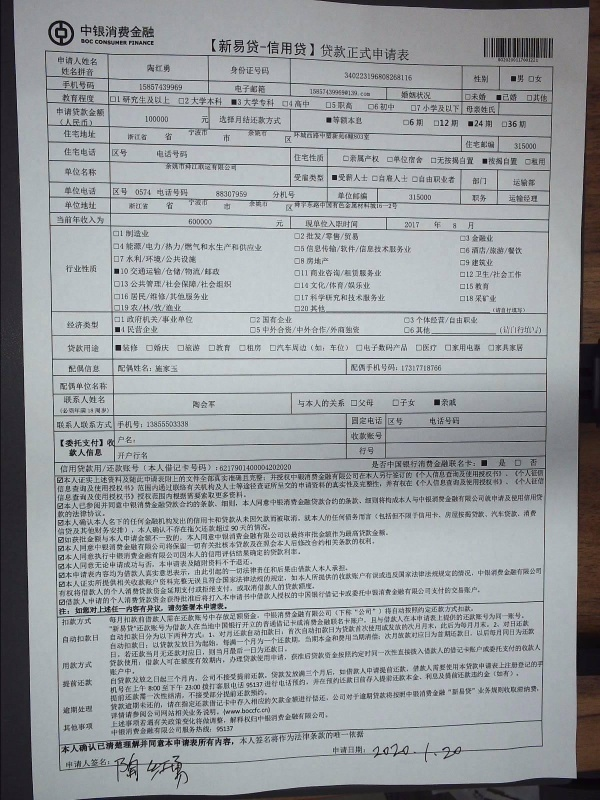text: (129, 753, 144, 788), (145, 753, 160, 788), (161, 753, 176, 788), (177, 753, 192, 788), (114, 753, 128, 788), (209, 37, 224, 66), (225, 37, 240, 66), (241, 37, 256, 66), (257, 37, 272, 66), (273, 37, 288, 66), (289, 37, 304, 66), (305, 37, 320, 66), (321, 37, 336, 66), (337, 37, 352, 66), (353, 37, 368, 66), (369, 37, 384, 66), (385, 37, 400, 66), (113, 684, 128, 712), (129, 684, 144, 712), (145, 684, 160, 712), (161, 684, 176, 712), (177, 684, 192, 712), (193, 684, 208, 712), (209, 684, 224, 712), (225, 684, 240, 712), (241, 684, 256, 712), (257, 684, 272, 712), (273, 684, 288, 712), (289, 684, 304, 712), (305, 684, 320, 712), (321, 684, 336, 712), (337, 684, 352, 712), (353, 684, 368, 712), (369, 684, 384, 712), (385, 684, 400, 712), (401, 684, 416, 712), (417, 684, 432, 712), (433, 684, 448, 712), (449, 684, 464, 712), (465, 684, 480, 712), (481, 684, 496, 712), (497, 684, 512, 712), (513, 684, 528, 712), (529, 643, 545, 669), (353, 730, 369, 756), (113, 660, 128, 687), (129, 660, 144, 687), (145, 660, 160, 687), (161, 660, 176, 687), (177, 660, 192, 687), (193, 660, 208, 687), (209, 660, 224, 687), (225, 660, 240, 687), (241, 660, 256, 687), (257, 660, 272, 687), (273, 660, 288, 687), (289, 660, 304, 687), (305, 660, 320, 687), (321, 660, 336, 687), (337, 660, 352, 687), (353, 660, 368, 687), (369, 660, 384, 687), (385, 660, 400, 687), (401, 660, 416, 687), (417, 660, 432, 687), (433, 660, 448, 687), (449, 660, 464, 687), (465, 660, 480, 687), (481, 660, 496, 687), (497, 660, 512, 687), (513, 660, 528, 687), (529, 660, 544, 687), (529, 684, 543, 712), (113, 643, 128, 669), (129, 643, 144, 669), (145, 643, 160, 669), (161, 643, 176, 669), (177, 643, 192, 669), (193, 643, 208, 669), (209, 643, 224, 669), (225, 643, 240, 669), (241, 643, 256, 669), (257, 643, 272, 669), (273, 643, 288, 669), (289, 643, 304, 669), (305, 643, 320, 669), (321, 643, 336, 669), (337, 643, 352, 669), (353, 643, 368, 669), (369, 643, 384, 669), (385, 643, 400, 669), (401, 643, 416, 669), (417, 643, 432, 669), (433, 643, 448, 669), (449, 643, 464, 669), (465, 643, 480, 669), (481, 643, 496, 669), (497, 643, 512, 669), (513, 643, 528, 669), (113, 669, 128, 695), (129, 669, 144, 695), (145, 669, 160, 695), (161, 669, 176, 695), (177, 669, 192, 695), (193, 669, 208, 695), (209, 669, 224, 695), (225, 669, 240, 695), (241, 669, 256, 695), (257, 669, 272, 695), (273, 669, 288, 695), (289, 669, 304, 695), (305, 669, 320, 695), (321, 669, 336, 695), (337, 669, 352, 695), (353, 669, 368, 695), (369, 669, 384, 695), (385, 669, 400, 695), (401, 669, 416, 695), (417, 669, 432, 695), (433, 669, 448, 695), (449, 669, 464, 695), (465, 669, 480, 695), (481, 669, 496, 695), (497, 669, 512, 695), (65, 730, 80, 756), (81, 730, 96, 756), (97, 730, 112, 756), (113, 730, 128, 756), (129, 730, 144, 756), (145, 730, 160, 756), (161, 730, 176, 756), (177, 730, 192, 756), (193, 730, 208, 756), (209, 730, 224, 756), (225, 730, 240, 756), (241, 730, 256, 756), (257, 730, 272, 756), (273, 730, 288, 756), (289, 730, 304, 756), (305, 730, 320, 756), (321, 730, 336, 756), (337, 730, 352, 756), (401, 37, 414, 66), (385, 741, 400, 766), (401, 741, 416, 766), (417, 741, 432, 766), (433, 741, 448, 766), (449, 741, 464, 766), (113, 619, 128, 643), (129, 619, 144, 643), (145, 619, 160, 643), (161, 619, 176, 643), (177, 619, 192, 643), (193, 619, 208, 643), (209, 619, 224, 643), (225, 619, 240, 643), (241, 619, 256, 643), (257, 619, 272, 643), (273, 619, 288, 643), (289, 619, 304, 643), (305, 619, 320, 643), (321, 619, 336, 643), (337, 619, 352, 643), (353, 619, 368, 643), (369, 619, 384, 643), (385, 619, 400, 643), (401, 619, 416, 643), (417, 619, 432, 643), (433, 619, 448, 643), (449, 619, 464, 643), (465, 619, 480, 643), (481, 619, 496, 643), (497, 619, 512, 643), (513, 619, 528, 643), (113, 627, 128, 651), (129, 627, 144, 651), (145, 627, 160, 651), (161, 627, 176, 651), (177, 627, 192, 651), (193, 627, 208, 651), (209, 627, 224, 651), (225, 627, 240, 651), (241, 627, 256, 651), (257, 627, 272, 651), (273, 627, 288, 651), (289, 627, 304, 651), (305, 627, 320, 651), (321, 627, 336, 651), (337, 627, 352, 651), (353, 627, 368, 651), (369, 627, 384, 651), (385, 627, 400, 651), (401, 627, 416, 651), (417, 627, 432, 651), (433, 627, 448, 651), (449, 627, 464, 651), (465, 627, 480, 651), (481, 627, 496, 651), (497, 627, 512, 651), (513, 627, 528, 651), (113, 94, 128, 116), (129, 94, 144, 116), (145, 94, 160, 116), (161, 94, 176, 116), (177, 94, 192, 116), (193, 94, 208, 116), (209, 94, 224, 116), (225, 94, 240, 116), (241, 94, 256, 116), (257, 94, 272, 116), (273, 94, 288, 116), (289, 94, 304, 116), (305, 94, 320, 116), (321, 94, 336, 116), (337, 94, 352, 116), (353, 94, 368, 116), (369, 94, 384, 116), (385, 94, 400, 116), (401, 94, 416, 116), (417, 94, 432, 116), (433, 94, 448, 116), (449, 94, 464, 116), (465, 94, 480, 116), (481, 94, 496, 116), (65, 567, 80, 589), (81, 567, 96, 589), (97, 567, 112, 589), (113, 567, 128, 589), (129, 567, 144, 589), (145, 567, 160, 589), (161, 567, 176, 589), (177, 567, 192, 589), (193, 567, 208, 589), (209, 567, 224, 589), (225, 567, 240, 589), (241, 567, 256, 589), (257, 567, 272, 589), (273, 567, 288, 589), (289, 567, 304, 589), (305, 567, 320, 589), (321, 567, 336, 589), (337, 567, 352, 589), (353, 567, 368, 589), (369, 567, 384, 589), (385, 567, 400, 589), (401, 567, 416, 589), (417, 567, 432, 589), (433, 567, 448, 589), (449, 567, 464, 589), (465, 567, 480, 589), (481, 567, 496, 589), (497, 567, 512, 589), (513, 567, 528, 589), (529, 567, 544, 589), (113, 603, 128, 625), (129, 603, 144, 625), (145, 603, 160, 625), (161, 603, 176, 625), (177, 603, 192, 625), (193, 603, 208, 625), (209, 603, 224, 625), (225, 603, 240, 625), (241, 603, 256, 625), (257, 603, 272, 625), (273, 603, 288, 625), (289, 603, 304, 625), (305, 603, 320, 625), (321, 603, 336, 625), (337, 603, 352, 625), (353, 603, 368, 625), (369, 603, 384, 625), (385, 603, 400, 625), (401, 603, 416, 625), (417, 603, 432, 625), (433, 603, 448, 625), (449, 603, 464, 625), (113, 612, 128, 634), (129, 612, 144, 634), (145, 612, 160, 634), (161, 612, 176, 634), (177, 612, 192, 634), (193, 612, 208, 634), (209, 612, 224, 634), (225, 612, 240, 634), (241, 612, 256, 634), (257, 612, 272, 634), (273, 612, 288, 634), (289, 612, 304, 634), (305, 612, 320, 634), (321, 612, 336, 634), (337, 612, 352, 634), (353, 612, 368, 634), (369, 612, 384, 634), (385, 612, 400, 634), (401, 612, 416, 634), (417, 612, 432, 634), (433, 612, 448, 634), (449, 612, 464, 634), (465, 612, 480, 634), (481, 612, 496, 634), (497, 612, 512, 634), (513, 612, 528, 634), (65, 586, 80, 607), (81, 586, 96, 607), (97, 586, 112, 607), (113, 586, 128, 607), (129, 586, 144, 607), (145, 586, 160, 607), (161, 586, 176, 607), (177, 586, 192, 607), (193, 586, 208, 607), (209, 586, 224, 607), (225, 586, 240, 607), (241, 586, 256, 607), (257, 586, 272, 607), (273, 586, 288, 607), (289, 586, 304, 607), (305, 586, 320, 607), (321, 586, 336, 607), (337, 586, 352, 607), (353, 586, 368, 607), (369, 586, 384, 607), (385, 586, 400, 607), (401, 586, 416, 607), (417, 586, 432, 607), (433, 586, 448, 607), (449, 586, 464, 607), (465, 586, 480, 607), (513, 669, 525, 695), (372, 741, 384, 766), (337, 563, 353, 581), (465, 603, 478, 625), (65, 509, 80, 528), (81, 509, 96, 528), (97, 509, 112, 528), (113, 509, 128, 528), (129, 509, 144, 528), (145, 509, 160, 528), (161, 509, 176, 528), (177, 509, 192, 528), (193, 509, 208, 528), (209, 509, 224, 528), (225, 509, 240, 528), (241, 509, 256, 528), (257, 509, 272, 528), (273, 509, 288, 528), (289, 509, 304, 528), (305, 509, 320, 528), (321, 509, 336, 528), (337, 509, 352, 528), (353, 509, 368, 528), (369, 509, 384, 528), (385, 509, 400, 528), (401, 509, 416, 528), (417, 509, 432, 528), (433, 509, 448, 528), (449, 509, 464, 528), (465, 509, 480, 528), (481, 509, 496, 528), (497, 509, 512, 528), (513, 509, 528, 528), (81, 22, 96, 40), (97, 22, 112, 40), (113, 22, 128, 40), (129, 22, 144, 40), (65, 493, 80, 511), (81, 493, 96, 511), (97, 493, 112, 511), (113, 493, 128, 511), (129, 493, 144, 511), (145, 493, 160, 511), (161, 493, 176, 511), (177, 493, 192, 511), (193, 493, 208, 511), (209, 493, 224, 511), (225, 493, 240, 511), (241, 493, 256, 511), (257, 493, 272, 511), (273, 493, 288, 511), (289, 493, 304, 511), (305, 493, 320, 511), (321, 493, 336, 511), (337, 493, 352, 511), (353, 493, 368, 511), (369, 493, 384, 511), (385, 493, 400, 511), (401, 493, 416, 511), (417, 493, 432, 511), (433, 493, 448, 511), (449, 493, 464, 511), (465, 493, 480, 511), (481, 493, 496, 511), (497, 493, 512, 511), (513, 493, 528, 511), (529, 493, 544, 511), (65, 563, 80, 581), (81, 563, 96, 581), (97, 563, 112, 581), (113, 563, 128, 581), (129, 563, 144, 581), (145, 563, 160, 581), (161, 563, 176, 581), (177, 563, 192, 581), (193, 563, 208, 581), (209, 563, 224, 581), (225, 563, 240, 581), (241, 563, 256, 581), (257, 563, 272, 581), (273, 563, 288, 581), (289, 563, 304, 581), (305, 563, 320, 581), (321, 563, 336, 581), (113, 711, 128, 729), (129, 711, 144, 729), (145, 711, 160, 729), (161, 711, 176, 729), (177, 711, 192, 729), (193, 711, 208, 729), (209, 711, 224, 729), (225, 711, 240, 729), (241, 711, 256, 729), (257, 711, 272, 729), (273, 711, 288, 729), (289, 711, 304, 729), (305, 711, 320, 729), (289, 547, 305, 563), (65, 477, 80, 494), (81, 477, 96, 494), (97, 477, 112, 494), (113, 477, 128, 494), (129, 477, 144, 494), (145, 477, 160, 494), (161, 477, 176, 494), (177, 477, 192, 494), (193, 477, 208, 494), (209, 477, 224, 494), (225, 477, 240, 494), (241, 477, 256, 494), (257, 477, 272, 494), (273, 477, 288, 494), (289, 477, 304, 494), (305, 477, 320, 494), (321, 477, 336, 494), (337, 477, 352, 494), (353, 477, 368, 494), (369, 477, 384, 494), (385, 477, 400, 494), (401, 477, 416, 494), (417, 477, 432, 494), (433, 477, 448, 494), (449, 477, 464, 494), (465, 477, 480, 494), (481, 477, 496, 494), (497, 477, 512, 494), (513, 477, 528, 494), (529, 477, 544, 494), (65, 528, 80, 545), (81, 528, 96, 545), (97, 528, 112, 545), (113, 528, 128, 545), (129, 528, 144, 545), (145, 528, 160, 545), (161, 528, 176, 545), (177, 528, 192, 545), (193, 528, 208, 545), (209, 528, 224, 545), (225, 528, 240, 545), (241, 528, 256, 545), (257, 528, 272, 545), (273, 528, 288, 545), (289, 528, 304, 545), (305, 528, 320, 545), (321, 528, 336, 545), (337, 528, 352, 545), (353, 528, 368, 545), (369, 528, 384, 545), (65, 537, 80, 554), (81, 537, 96, 554), (97, 537, 112, 554), (113, 537, 128, 554), (129, 537, 144, 554), (145, 537, 160, 554), (161, 537, 176, 554), (177, 537, 192, 554), (193, 537, 208, 554), (209, 537, 224, 554), (225, 537, 240, 554), (241, 537, 256, 554), (257, 537, 272, 554), (273, 537, 288, 554), (289, 537, 304, 554), (305, 537, 320, 554), (321, 537, 336, 554), (337, 537, 352, 554), (353, 537, 368, 554), (65, 582, 80, 599), (81, 582, 96, 599), (97, 582, 112, 599), (113, 582, 128, 599), (129, 582, 144, 599), (145, 582, 160, 599), (161, 582, 176, 599), (177, 582, 192, 599), (193, 582, 208, 599), (209, 582, 224, 599), (225, 582, 240, 599), (241, 582, 256, 599), (257, 582, 272, 599), (273, 582, 288, 599), (289, 582, 304, 599), (305, 582, 320, 599), (65, 602, 80, 619), (81, 602, 96, 619), (97, 602, 112, 619), (113, 602, 128, 619), (129, 602, 144, 619), (145, 602, 160, 619), (161, 602, 176, 619), (177, 602, 192, 619), (193, 602, 208, 619), (209, 602, 224, 619), (145, 22, 159, 40), (65, 469, 80, 485), (81, 469, 96, 485), (97, 469, 112, 485), (113, 469, 128, 485), (129, 469, 144, 485), (145, 469, 160, 485), (161, 469, 176, 485), (177, 469, 192, 485), (193, 469, 208, 485), (209, 469, 224, 485), (225, 469, 240, 485), (241, 469, 256, 485), (257, 469, 272, 485), (273, 469, 288, 485), (289, 469, 304, 485), (305, 469, 320, 485), (321, 469, 336, 485), (337, 469, 352, 485), (353, 469, 368, 485), (369, 469, 384, 485), (385, 469, 400, 485), (401, 469, 416, 485), (417, 469, 432, 485), (433, 469, 448, 485), (449, 469, 464, 485), (465, 469, 480, 485), (481, 469, 496, 485), (497, 469, 512, 485), (513, 469, 528, 485), (529, 469, 544, 485), (65, 547, 80, 563), (81, 547, 96, 563), (97, 547, 112, 563), (113, 547, 128, 563), (129, 547, 144, 563), (145, 547, 160, 563), (161, 547, 176, 563), (177, 547, 192, 563), (193, 547, 208, 563), (209, 547, 224, 563), (225, 547, 240, 563), (241, 547, 256, 563), (257, 547, 272, 563), (273, 547, 288, 563), (529, 627, 539, 651), (113, 644, 128, 660), (129, 644, 144, 660), (145, 644, 160, 660), (161, 644, 176, 660), (177, 644, 192, 660), (193, 644, 208, 660), (209, 644, 224, 660), (225, 644, 240, 660), (241, 644, 256, 660), (257, 644, 272, 660), (273, 644, 288, 660), (113, 705, 128, 721), (129, 705, 144, 721), (145, 705, 160, 721), (161, 705, 176, 721), (177, 705, 192, 721), (193, 705, 208, 721), (209, 705, 224, 721), (225, 705, 240, 721), (241, 705, 256, 721), (257, 705, 272, 721), (65, 756, 80, 772), (81, 756, 96, 772), (97, 756, 112, 772), (417, 116, 432, 131), (433, 116, 448, 131), (449, 116, 464, 131), (465, 116, 480, 131), (481, 116, 496, 131), (497, 116, 512, 131), (513, 116, 528, 131), (353, 153, 368, 168), (369, 153, 384, 168), (385, 153, 400, 168), (401, 153, 416, 168), (417, 153, 432, 168), (433, 153, 448, 168), (449, 153, 464, 168), (465, 153, 480, 168), (481, 153, 496, 168), (497, 153, 512, 168), (513, 153, 528, 168), (529, 153, 544, 168), (337, 172, 352, 187), (353, 172, 368, 187), (369, 172, 384, 187), (385, 172, 400, 187), (401, 172, 416, 187), (417, 172, 432, 187), (433, 172, 448, 187), (65, 557, 80, 572), (81, 557, 96, 572), (97, 557, 112, 572), (113, 557, 128, 572), (129, 557, 144, 572), (145, 557, 160, 572), (161, 557, 176, 572), (177, 557, 192, 572), (193, 557, 208, 572), (209, 557, 224, 572), (225, 557, 240, 572), (241, 557, 256, 572), (65, 703, 80, 718), (81, 703, 96, 718), (65, 721, 80, 736), (81, 721, 96, 736), (113, 688, 128, 703), (129, 688, 144, 703), (145, 688, 160, 703), (161, 688, 176, 703), (177, 688, 192, 703), (193, 688, 208, 703), (209, 688, 224, 703), (225, 688, 240, 703), (241, 688, 256, 703), (369, 430, 385, 444), (321, 711, 333, 729), (65, 65, 80, 79), (81, 65, 96, 79), (402, 116, 416, 131), (113, 241, 128, 255), (129, 241, 144, 255), (145, 241, 160, 255), (161, 241, 176, 255), (177, 241, 192, 255), (193, 241, 208, 255), (209, 241, 224, 255), (225, 241, 240, 255), (241, 241, 256, 255), (113, 278, 128, 292), (129, 278, 144, 292), (145, 278, 160, 292), (161, 278, 176, 292), (177, 278, 192, 292), (193, 278, 208, 292), (209, 278, 224, 292), (465, 244, 480, 258), (481, 244, 496, 258), (497, 244, 512, 258), (353, 430, 368, 444), (65, 523, 80, 537), (81, 523, 96, 537), (97, 523, 112, 537), (113, 523, 128, 537), (129, 523, 144, 537), (145, 523, 160, 537), (161, 523, 176, 537), (177, 523, 192, 537), (193, 523, 208, 537), (209, 523, 224, 537), (225, 523, 240, 537), (241, 523, 256, 537), (257, 523, 272, 537), (65, 632, 80, 646), (81, 632, 96, 646), (65, 676, 80, 690), (81, 676, 96, 690), (257, 688, 271, 703), (113, 724, 128, 738), (129, 724, 144, 738), (145, 724, 160, 738), (161, 724, 176, 738), (177, 724, 192, 738), (193, 724, 208, 738), (209, 724, 224, 738), (513, 244, 527, 258), (225, 724, 239, 738), (65, 56, 80, 69), (81, 56, 96, 69), (241, 83, 256, 96), (225, 113, 240, 126), (241, 113, 256, 126), (257, 113, 272, 126), (65, 128, 80, 141), (81, 128, 96, 141), (305, 152, 320, 165), (305, 172, 320, 185), (65, 185, 80, 198), (81, 185, 96, 198), (113, 186, 128, 199), (129, 186, 144, 199), (145, 186, 160, 199), (161, 186, 176, 199), (113, 253, 128, 266), (129, 253, 144, 266), (145, 253, 160, 266), (161, 253, 176, 266), (177, 253, 192, 266), (113, 265, 128, 278), (129, 265, 144, 278), (145, 265, 160, 278), (161, 265, 176, 278), (177, 265, 192, 278), (193, 265, 208, 278), (209, 265, 224, 278), (305, 267, 320, 280), (321, 267, 336, 280), (337, 267, 352, 280), (353, 267, 368, 280), (369, 267, 384, 280), (305, 280, 320, 293), (321, 280, 336, 293), (337, 280, 352, 293), (353, 280, 368, 293), (129, 324, 144, 337), (145, 324, 160, 337), (353, 415, 368, 428), (369, 415, 384, 428), (385, 415, 400, 428), (65, 437, 80, 450), (81, 437, 96, 450), (97, 437, 112, 450), (65, 462, 80, 475), (81, 462, 96, 475), (97, 462, 112, 475), (113, 462, 128, 475), (129, 462, 144, 475), (145, 462, 160, 475), (161, 462, 176, 475), (177, 462, 192, 475), (193, 462, 208, 475), (209, 462, 224, 475), (225, 462, 240, 475), (241, 462, 256, 475), (257, 462, 272, 475), (273, 462, 288, 475), (385, 458, 400, 471), (401, 458, 416, 471), (417, 458, 432, 471), (433, 458, 448, 471), (449, 458, 464, 471), (465, 458, 480, 471), (481, 458, 496, 471), (497, 458, 512, 471), (513, 458, 528, 471), (529, 509, 539, 528), (146, 62, 160, 75), (257, 83, 271, 96), (177, 186, 191, 199), (114, 324, 128, 337), (370, 458, 384, 471), (241, 64, 256, 76), (257, 64, 272, 76), (353, 71, 368, 83), (369, 71, 384, 83), (385, 71, 400, 83), (321, 87, 336, 99), (337, 87, 352, 99), (353, 87, 368, 99), (465, 92, 480, 104), (481, 92, 496, 104), (497, 92, 512, 104), (513, 92, 528, 104), (529, 92, 544, 104), (65, 106, 80, 118), (81, 106, 96, 118), (337, 114, 352, 126), (113, 147, 128, 159), (161, 149, 176, 161), (177, 149, 192, 161), (65, 167, 80, 179), (81, 167, 96, 179), (225, 189, 240, 201), (273, 188, 288, 200), (337, 190, 352, 202), (353, 190, 368, 202), (65, 200, 80, 212), (81, 200, 96, 212), (129, 200, 144, 212), (65, 263, 80, 275), (81, 263, 96, 275), (113, 291, 128, 303), (129, 291, 144, 303), (145, 291, 160, 303), (161, 291, 176, 303), (177, 291, 192, 303), (193, 291, 208, 303), (305, 219, 320, 231), (321, 219, 336, 231), (337, 219, 352, 231), (305, 231, 320, 243), (321, 231, 336, 243), (337, 231, 352, 243), (305, 244, 320, 256), (321, 244, 336, 256), (337, 244, 352, 256), (353, 244, 368, 256), (369, 244, 384, 256), (385, 244, 400, 256), (305, 256, 320, 268), (465, 257, 480, 269), (481, 257, 496, 269), (465, 269, 480, 281), (481, 269, 496, 281), (497, 269, 512, 281), (465, 281, 480, 293), (465, 294, 480, 306), (481, 294, 496, 306), (65, 319, 80, 331), (81, 319, 96, 331), (417, 325, 432, 337), (513, 325, 528, 337), (529, 325, 544, 337), (129, 363, 144, 375), (145, 363, 160, 375), (161, 363, 176, 375), (353, 362, 368, 374), (369, 362, 384, 374), (385, 362, 400, 374), (401, 362, 416, 374), (417, 362, 432, 374), (65, 381, 80, 393), (81, 381, 96, 393), (65, 394, 80, 406), (81, 394, 96, 406), (65, 405, 80, 417), (81, 405, 96, 417), (97, 405, 112, 417), (193, 400, 208, 412), (305, 397, 320, 409), (321, 397, 336, 409), (337, 397, 352, 409), (353, 397, 368, 409), (369, 397, 384, 409), (385, 397, 400, 409), (401, 397, 416, 409), (417, 397, 432, 409), (433, 397, 448, 409), (81, 447, 96, 459), (129, 450, 144, 462), (65, 491, 80, 503), (81, 491, 96, 503), (97, 491, 112, 503), (113, 491, 128, 503), (129, 491, 144, 503), (145, 491, 160, 503), (161, 491, 176, 503), (177, 491, 192, 503), (193, 491, 208, 503), (209, 491, 224, 503), (225, 491, 240, 503), (65, 616, 80, 628), (65, 660, 80, 672), (81, 660, 96, 672), (481, 233, 497, 244), (55, 509, 64, 528), (369, 537, 379, 554), (161, 62, 174, 75), (529, 458, 542, 471), (401, 71, 415, 83), (225, 278, 237, 292), (81, 616, 95, 628), (81, 37, 96, 48), (97, 37, 112, 48), (113, 37, 128, 48), (129, 37, 144, 48), (145, 81, 160, 92), (161, 81, 176, 92), (401, 90, 416, 101), (417, 90, 432, 101), (65, 94, 80, 105), (81, 94, 96, 105), (145, 113, 160, 124), (129, 132, 144, 143), (305, 131, 320, 142), (321, 131, 336, 142), (337, 131, 352, 142), (353, 131, 368, 142), (65, 147, 80, 158), (81, 147, 96, 158), (341, 153, 352, 168), (513, 194, 528, 205), (65, 214, 80, 225), (81, 214, 96, 225), (129, 303, 144, 314), (145, 303, 160, 314), (161, 303, 176, 314), (417, 220, 432, 231), (433, 220, 448, 231), (449, 220, 464, 231), (305, 293, 320, 304), (321, 293, 336, 304), (337, 293, 352, 304), (353, 293, 368, 304), (369, 293, 384, 304), (305, 304, 320, 315), (465, 233, 480, 244), (257, 325, 272, 336), (273, 325, 288, 336), (289, 325, 304, 336), (305, 325, 320, 336), (321, 325, 336, 336), (337, 325, 352, 336), (129, 343, 144, 354), (145, 343, 160, 354), (161, 343, 176, 354), (177, 343, 192, 354), (193, 343, 208, 354), (209, 343, 224, 354), (225, 343, 240, 354), (241, 343, 256, 354), (257, 343, 272, 354), (273, 343, 288, 354), (289, 343, 304, 354), (305, 343, 320, 354), (321, 343, 336, 354), (337, 343, 352, 354), (353, 343, 368, 354), (369, 343, 384, 354), (385, 343, 400, 354), (401, 343, 416, 354), (417, 343, 432, 354), (433, 343, 448, 354), (449, 343, 464, 354), (465, 343, 480, 354), (481, 343, 496, 354), (497, 343, 512, 354), (513, 343, 528, 354), (81, 363, 96, 374), (65, 419, 80, 430), (81, 419, 96, 430), (97, 419, 112, 430), (113, 419, 128, 430), (129, 419, 144, 430), (145, 419, 160, 430), (161, 419, 176, 430), (177, 419, 192, 430), (433, 415, 448, 426), (449, 415, 464, 426), (337, 745, 352, 756), (353, 745, 368, 756), (81, 80, 97, 90), (81, 117, 97, 127), (385, 201, 401, 211), (465, 315, 481, 325), (273, 113, 285, 126), (164, 131, 176, 144), (401, 244, 414, 256), (292, 280, 304, 293), (513, 269, 526, 281), (403, 325, 416, 337), (433, 362, 446, 374), (97, 381, 110, 393), (114, 303, 128, 314), (114, 343, 128, 354), (57, 567, 64, 589), (55, 537, 64, 554), (497, 56, 512, 66), (513, 56, 528, 66), (65, 80, 80, 90), (65, 117, 80, 127), (465, 140, 480, 150), (481, 140, 496, 150), (177, 162, 192, 172), (193, 162, 208, 172), (209, 162, 224, 172), (225, 162, 240, 172), (449, 172, 459, 187), (513, 177, 528, 187), (417, 193, 432, 203), (193, 198, 208, 208), (305, 201, 320, 211), (321, 201, 336, 211), (337, 201, 352, 211), (353, 201, 368, 211), (369, 201, 384, 211), (113, 229, 128, 239), (129, 229, 144, 239), (193, 217, 208, 227), (113, 315, 128, 325), (129, 315, 144, 325), (145, 315, 160, 325), (161, 315, 176, 325), (177, 315, 192, 325), (257, 315, 272, 325), (273, 315, 288, 325), (417, 315, 432, 325), (433, 315, 448, 325), (449, 315, 464, 325), (81, 343, 96, 353), (65, 509, 80, 519), (81, 509, 96, 519), (113, 667, 128, 677), (57, 586, 64, 607), (324, 114, 336, 126), (353, 114, 365, 126), (292, 256, 304, 268), (481, 281, 493, 293), (500, 325, 512, 337), (449, 397, 461, 409), (68, 447, 80, 459), (116, 450, 128, 462), (55, 469, 64, 485), (56, 493, 64, 511), (55, 547, 64, 563), (529, 619, 535, 643), (293, 152, 304, 165), (293, 172, 304, 185), (403, 220, 416, 231), (293, 267, 304, 280), (402, 315, 416, 325), (66, 343, 80, 353), (56, 477, 64, 494), (56, 528, 64, 545), (225, 602, 233, 619), (193, 128, 208, 137), (513, 142, 528, 151), (497, 306, 512, 315), (513, 306, 528, 315), (145, 37, 157, 48), (309, 87, 320, 99), (97, 106, 108, 118), (165, 200, 176, 212), (465, 220, 477, 231), (293, 231, 304, 243), (292, 293, 304, 304), (68, 363, 80, 374), (117, 363, 128, 375), (97, 394, 108, 406), (529, 56, 542, 66), (275, 218, 288, 228), (257, 200, 271, 209), (481, 74, 492, 85), (293, 131, 304, 142), (293, 304, 304, 315), (230, 64, 240, 76), (164, 162, 176, 172), (353, 231, 363, 243), (294, 244, 304, 256), (321, 256, 331, 268), (116, 435, 128, 445), (241, 491, 251, 503), (97, 509, 109, 519), (385, 528, 392, 545), (57, 602, 64, 619), (257, 129, 270, 138), (193, 253, 202, 266), (56, 523, 64, 537), (161, 113, 171, 124), (529, 194, 539, 205), (353, 325, 363, 336), (358, 445, 368, 456), (55, 106, 64, 118), (529, 142, 541, 151), (471, 175, 480, 187), (481, 175, 490, 187), (215, 189, 224, 201), (241, 189, 250, 201), (353, 219, 362, 231), (209, 400, 218, 412), (58, 563, 64, 581), (108, 660, 112, 687), (57, 557, 64, 572), (193, 753, 196, 788), (108, 643, 112, 669), (108, 669, 112, 695), (58, 582, 64, 599), (529, 177, 539, 187), (294, 201, 304, 211), (129, 435, 139, 445), (129, 667, 139, 677), (471, 194, 480, 205), (225, 201, 234, 212), (321, 304, 330, 315), (247, 325, 256, 336), (369, 445, 378, 456), (257, 241, 264, 255), (344, 71, 352, 83), (289, 134, 297, 146), (97, 447, 105, 459), (56, 491, 64, 503), (108, 627, 112, 651), (57, 56, 64, 69), (246, 129, 256, 138), (55, 509, 64, 519), (108, 94, 112, 116), (225, 133, 233, 144), (481, 194, 489, 205), (56, 214, 64, 225), (97, 214, 105, 225), (56, 419, 64, 430), (289, 188, 296, 200), (458, 244, 464, 258), (297, 397, 304, 409), (109, 684, 112, 712), (200, 115, 208, 125), (408, 193, 416, 203), (209, 217, 217, 227), (248, 315, 256, 325), (289, 644, 294, 660), (234, 83, 240, 96), (218, 113, 224, 126), (321, 152, 327, 165), (321, 172, 327, 185), (401, 415, 407, 428), (58, 462, 64, 475), (289, 462, 295, 475), (61, 730, 64, 756), (473, 74, 480, 85), (177, 81, 184, 92), (177, 303, 184, 314), (331, 172, 336, 187), (154, 149, 160, 161), (145, 200, 151, 212), (248, 200, 256, 209), (458, 257, 464, 269), (458, 269, 464, 281), (458, 281, 464, 293), (58, 381, 64, 393), (145, 450, 151, 462), (289, 203, 296, 213), (145, 229, 152, 239), (289, 315, 296, 325), (458, 233, 464, 244), (97, 363, 103, 374), (109, 603, 112, 625), (97, 56, 102, 69), (369, 280, 374, 293), (59, 437, 64, 450), (108, 644, 112, 660), (273, 705, 277, 721), (481, 586, 484, 607), (545, 92, 550, 104), (283, 134, 288, 146), (459, 294, 464, 306), (97, 319, 102, 331), (177, 363, 182, 375), (59, 405, 64, 417), (108, 688, 112, 703), (60, 65, 64, 79), (97, 632, 101, 646), (139, 81, 144, 92), (145, 132, 150, 143), (369, 131, 374, 142), (331, 745, 336, 756), (113, 437, 117, 450), (545, 477, 548, 494), (59, 117, 64, 127), (97, 343, 102, 353), (369, 87, 373, 99), (497, 294, 501, 306), (545, 469, 548, 485), (110, 619, 112, 643), (109, 705, 112, 721), (545, 153, 548, 168), (497, 94, 499, 116), (508, 194, 512, 205), (385, 293, 389, 304), (428, 415, 432, 426), (529, 612, 531, 634), (61, 676, 64, 690), (109, 724, 112, 738), (60, 80, 64, 90), (188, 198, 192, 208), (188, 217, 192, 227), (61, 128, 64, 141), (97, 185, 100, 198), (188, 128, 192, 137), (97, 167, 100, 179), (209, 291, 212, 303), (492, 306, 496, 315), (61, 394, 64, 406), (545, 493, 547, 511), (61, 616, 64, 628), (61, 660, 64, 672), (209, 115, 212, 125), (285, 203, 288, 213), (193, 315, 196, 325), (62, 703, 64, 718), (109, 667, 112, 677), (350, 430, 352, 444), (62, 632, 64, 646), (545, 660, 546, 687), (97, 128, 99, 141), (161, 324, 163, 337), (465, 741, 466, 766), (369, 190, 371, 202), (62, 200, 64, 212), (97, 200, 99, 212), (97, 263, 99, 275), (350, 362, 352, 374), (190, 400, 192, 412), (62, 94, 64, 105), (126, 132, 128, 143), (222, 133, 224, 144), (222, 201, 224, 212), (545, 567, 546, 589), (111, 612, 112, 634), (497, 140, 499, 150), (241, 162, 243, 172), (433, 193, 435, 203), (209, 198, 211, 208), (111, 711, 112, 729), (113, 756, 114, 772), (529, 116, 530, 131), (257, 557, 258, 572), (63, 721, 64, 736), (111, 241, 112, 255), (273, 523, 274, 537), (111, 265, 112, 278), (351, 415, 352, 428), (129, 147, 130, 159), (63, 167, 64, 179), (127, 200, 128, 212), (177, 200, 178, 212), (303, 219, 304, 231), (433, 325, 434, 337), (79, 37, 80, 48), (433, 90, 434, 101), (97, 94, 98, 105), (63, 147, 64, 158), (97, 147, 98, 158), (369, 745, 370, 756), (209, 128, 210, 137)
